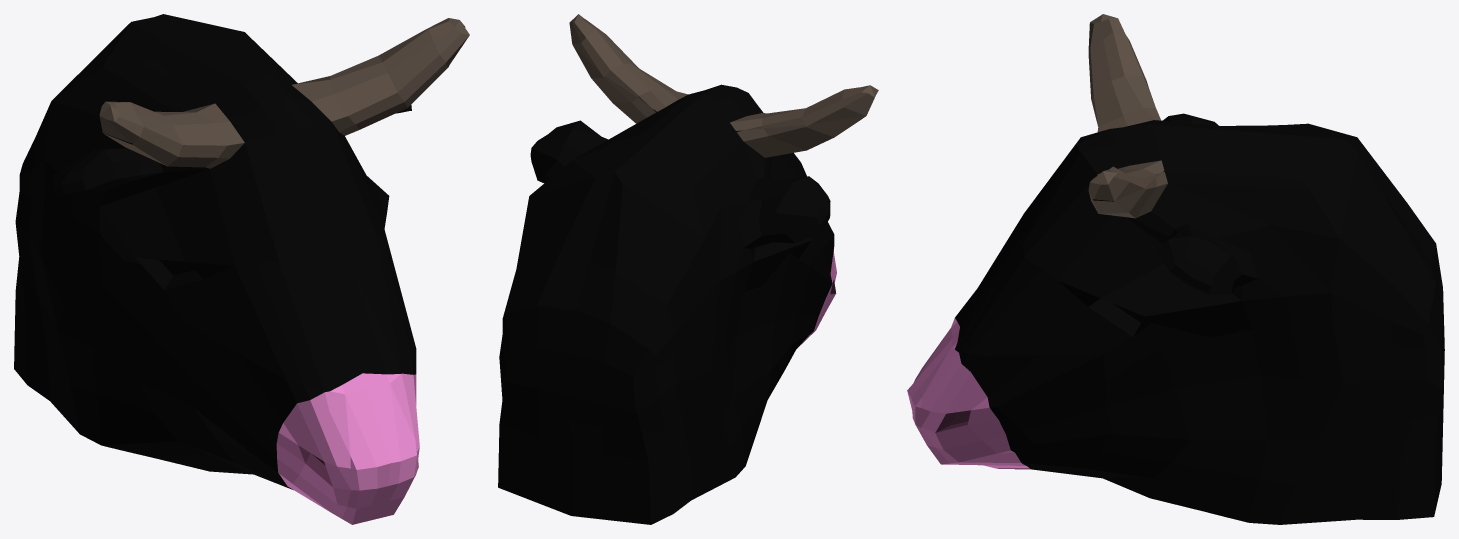
File: bull Head.fbx
3 renders of one model, left to right at view 1: azimuth 30°, elevation 25°; view 2: azimuth 150°, elevation 25°; view 3: azimuth 270°, elevation 25°, orthographic. The views are drawn at different scales.
Parts seen in each view (by area): view 1: Cube; view 2: Cube; view 3: Cube.
Part boxes in pixels (<box>): Cube: <box>14,14,469,524</box>; Cube: <box>498,14,878,524</box>; Cube: <box>907,14,1444,524</box>.
Bounding box in the file's own units: 36.96 × 40.96 × 51.04.
